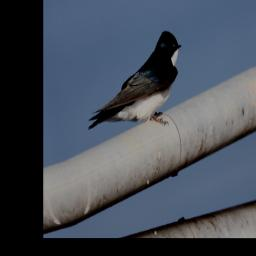Swallow: (78, 25, 192, 155)
